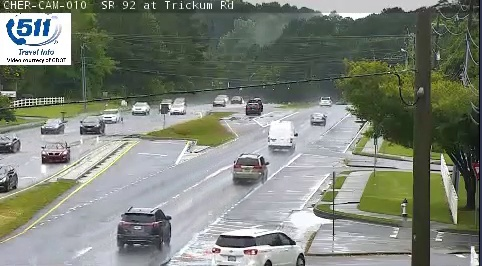car: (117, 207, 171, 242), (234, 155, 267, 180), (310, 113, 326, 126)
van: (269, 122, 295, 150)
